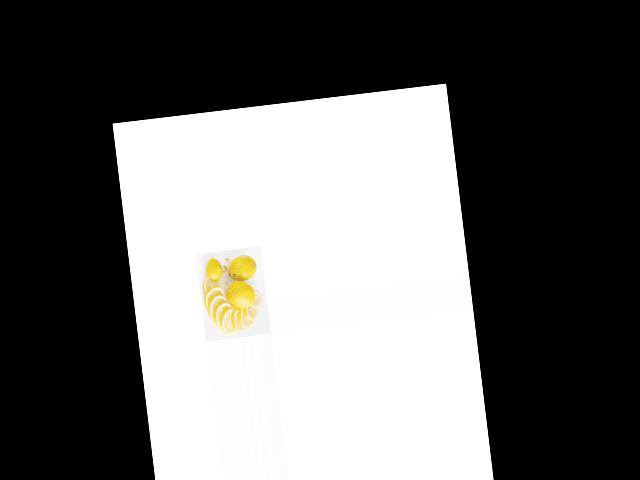lemon: (204, 257, 225, 280)
